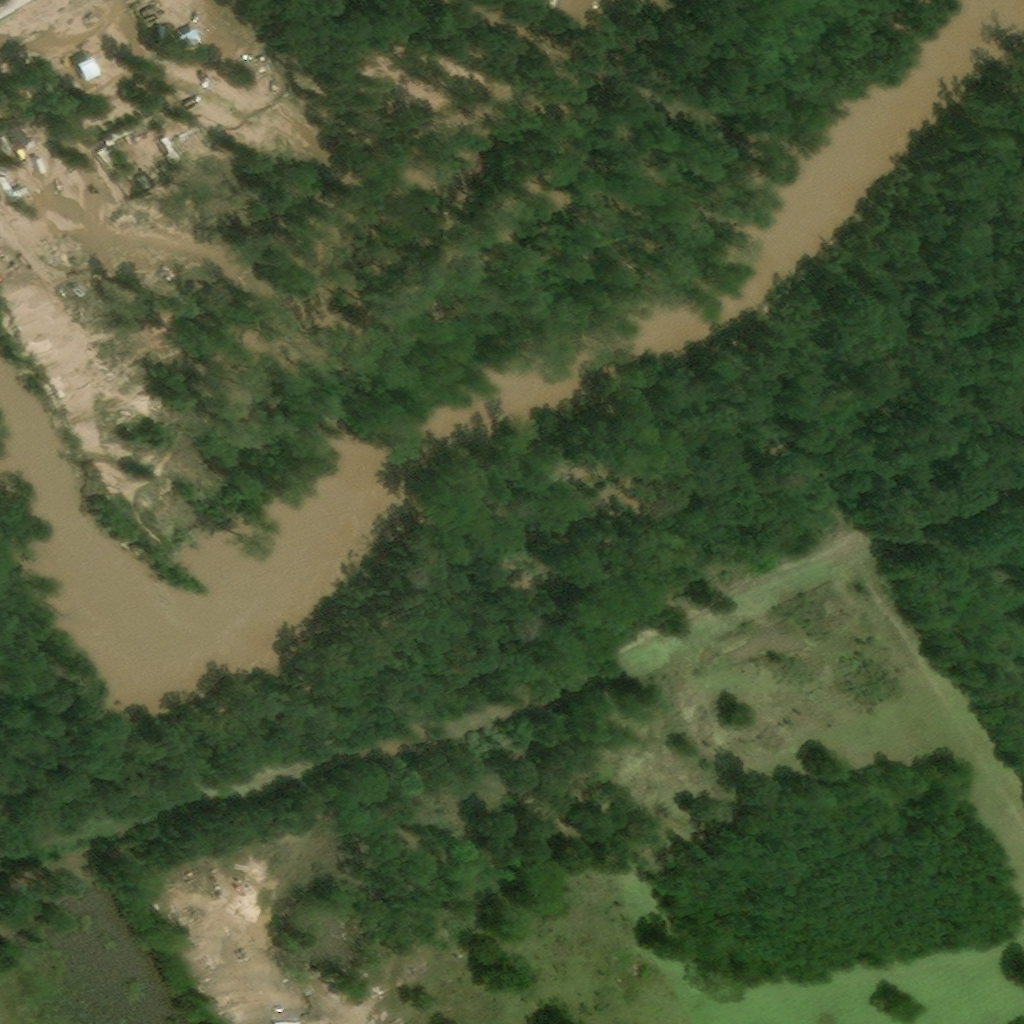destroyed: (111, 127, 142, 149), (189, 128, 214, 149), (77, 176, 94, 191), (107, 150, 120, 164), (147, 178, 158, 191), (235, 85, 247, 96), (209, 0, 224, 6)
major_damage: (10, 122, 42, 158), (81, 54, 105, 83), (184, 26, 207, 52), (170, 138, 184, 156), (180, 102, 197, 116), (177, 93, 190, 105)
